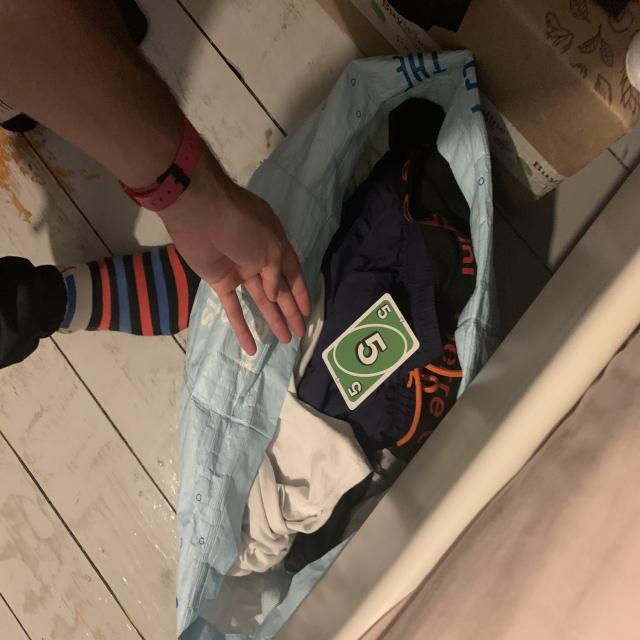lgreen-5: (373, 302, 392, 322)
